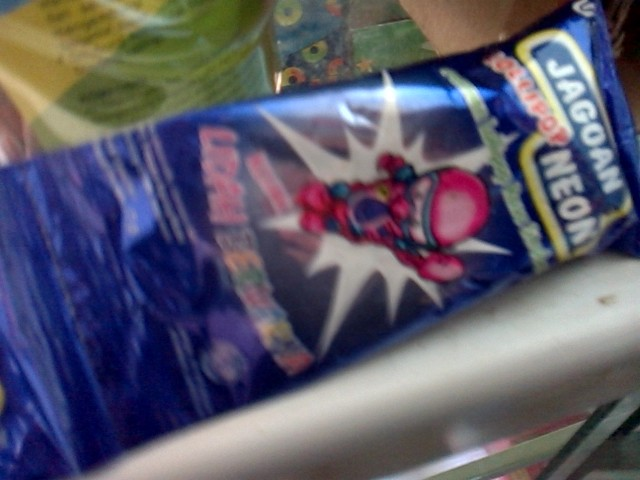jagoan neon: (38, 1, 640, 449)
